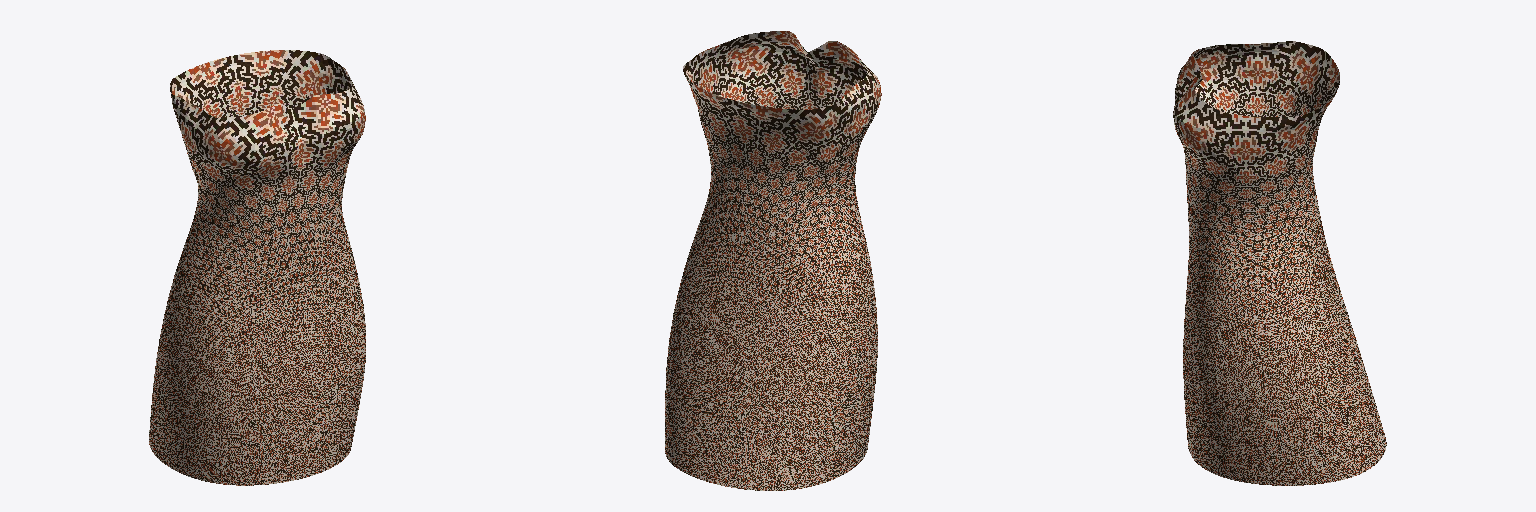
The picture shows the model from 3 angles: view 1: azimuth 30°, elevation 25°; view 2: azimuth 150°, elevation 25°; view 3: azimuth 270°, elevation 25°; orthographic projection.
Visible parts, largest first — view 1: Dress_Form.003; view 2: Dress_Form.003; view 3: Dress_Form.003.
Boxes of the visible parts, x1,y1,x2,y2 form: Dress_Form.003: [149, 50, 365, 485]; Dress_Form.003: [665, 31, 881, 490]; Dress_Form.003: [1173, 41, 1386, 485].
Bounding box in the file's own units: 0.2536 × 0.4956 × 0.2535.
Materials: 1 (1 with a texture image).